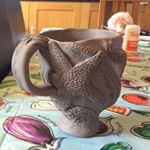cups: (8, 24, 128, 139)
